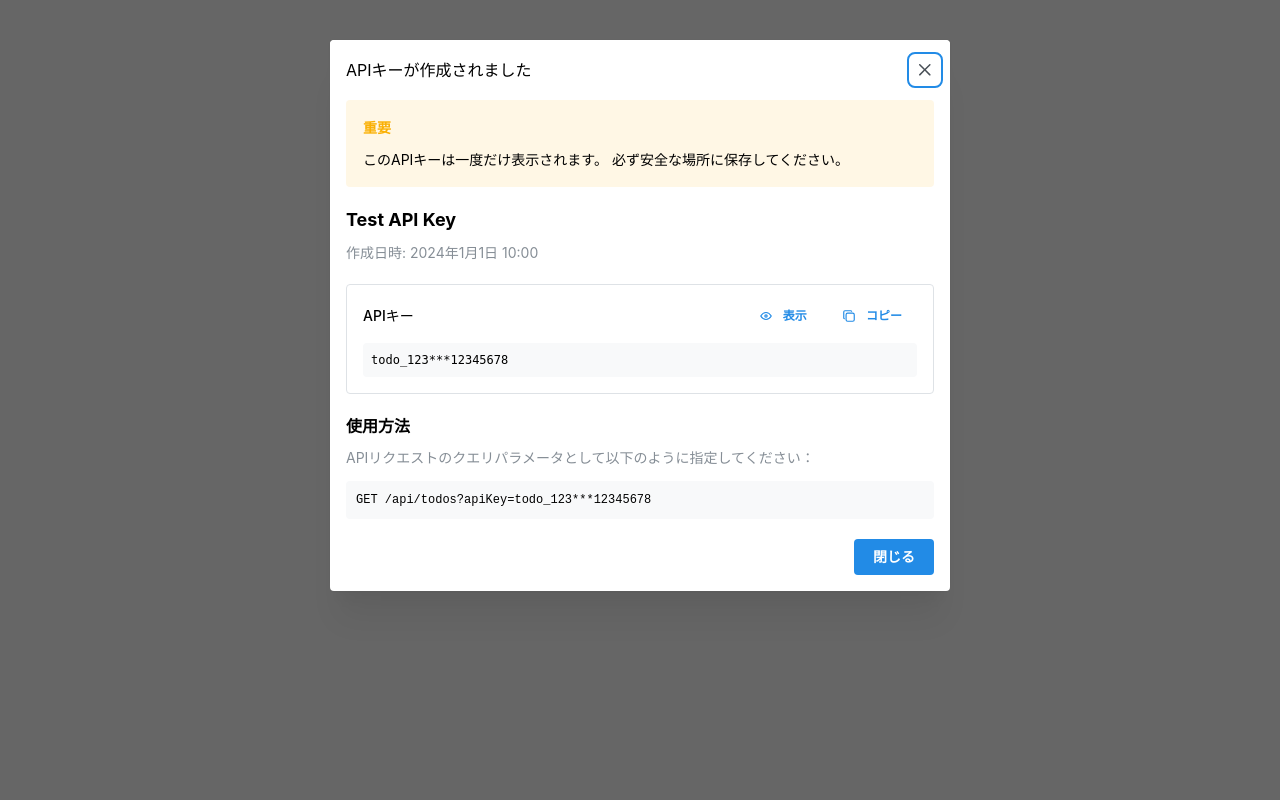
Test case: ApiKeyDisplayModal › API key visibility toggle › should show full API key when visibility is toggled on
This screenshot has width=1280, height=800.
Click the button "表示" at (785,316), box [748,301,822,331]
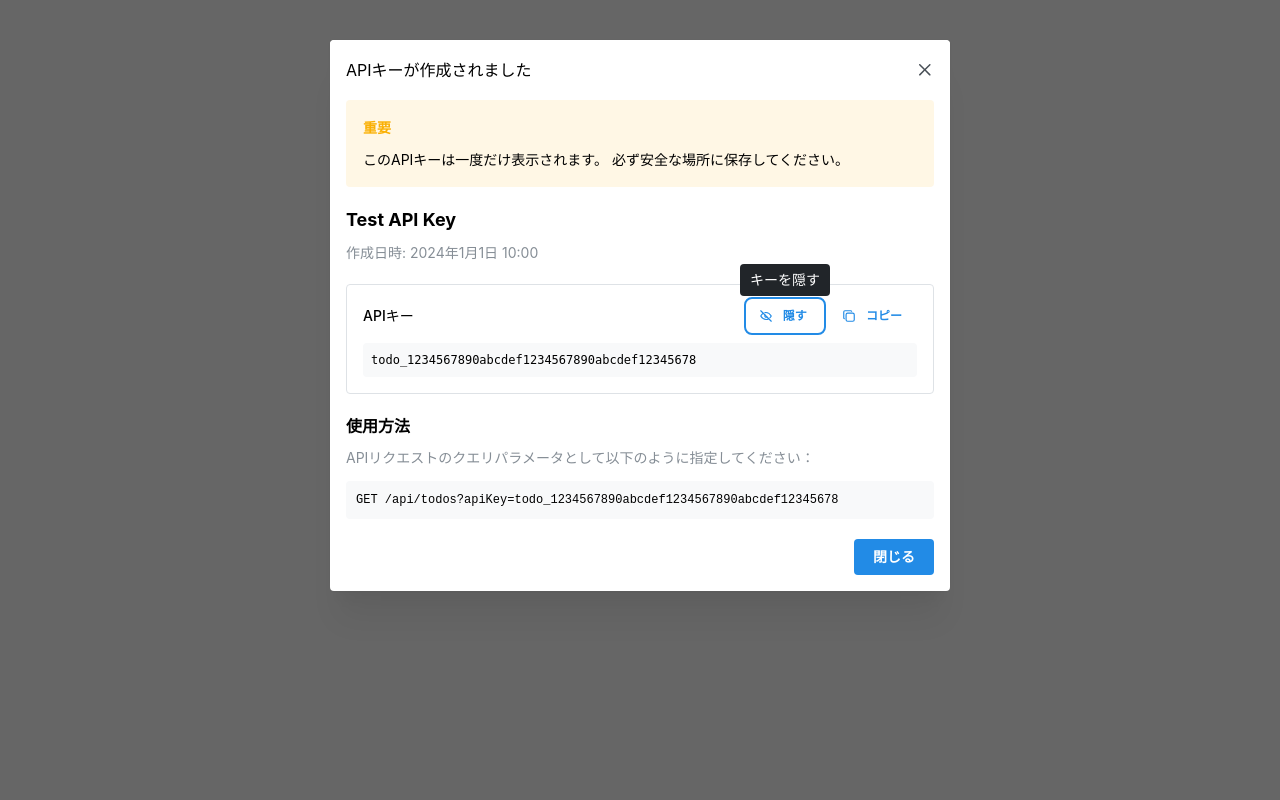
Result: the text "todo_1234567890abcdef1234567890abcdef12345678" is shown at [363,343,917,377]
Result: the button "隠す" is shown at [783,308,807,323]
